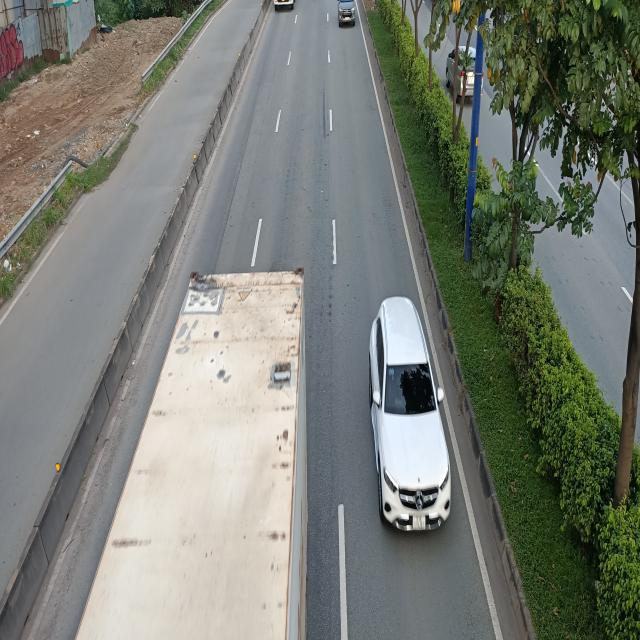car: (369, 299, 452, 535)
container: (77, 267, 313, 638)
